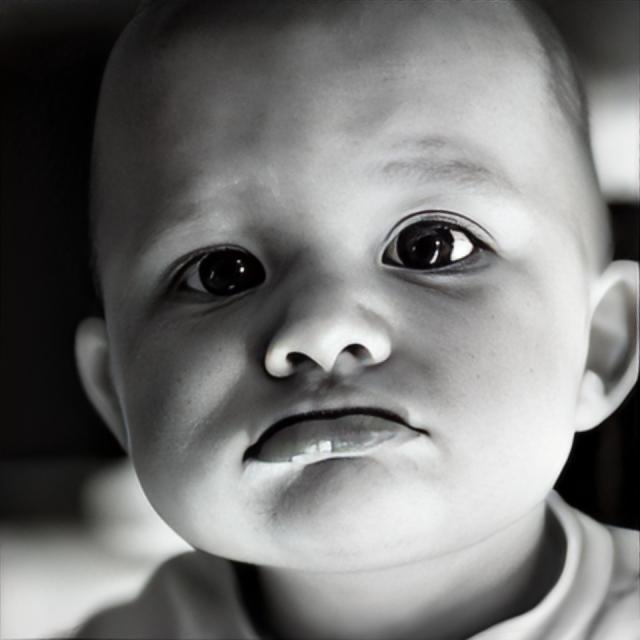disgust: (87, 0, 614, 576)
